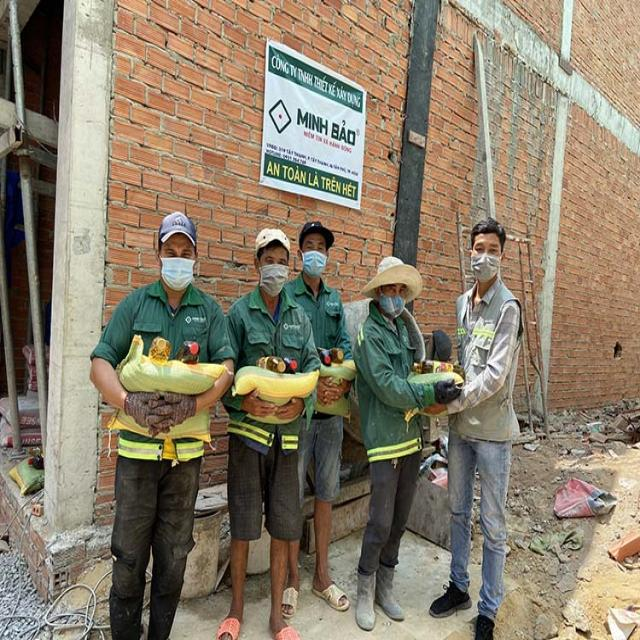boots: (378, 562, 410, 622), (358, 558, 376, 634), (431, 580, 471, 614), (471, 608, 497, 640)
gloves: (126, 385, 162, 436), (157, 389, 194, 435), (434, 373, 460, 400), (432, 329, 452, 356)
no_boots: (309, 581, 347, 613), (284, 575, 302, 618), (273, 608, 296, 640), (220, 604, 240, 640)
no_gloves: (247, 388, 276, 425), (273, 391, 300, 419), (318, 374, 332, 408), (329, 381, 346, 407)
no_hardhat: (251, 224, 289, 303), (157, 211, 198, 282), (375, 250, 410, 312), (300, 218, 334, 280), (474, 218, 507, 280)
no_vest: (219, 281, 322, 430), (102, 282, 232, 378), (353, 310, 435, 456), (451, 296, 518, 438), (294, 276, 354, 371)
person: (89, 205, 235, 640), (421, 216, 522, 640), (354, 258, 461, 629), (212, 217, 304, 640), (288, 219, 350, 615)
